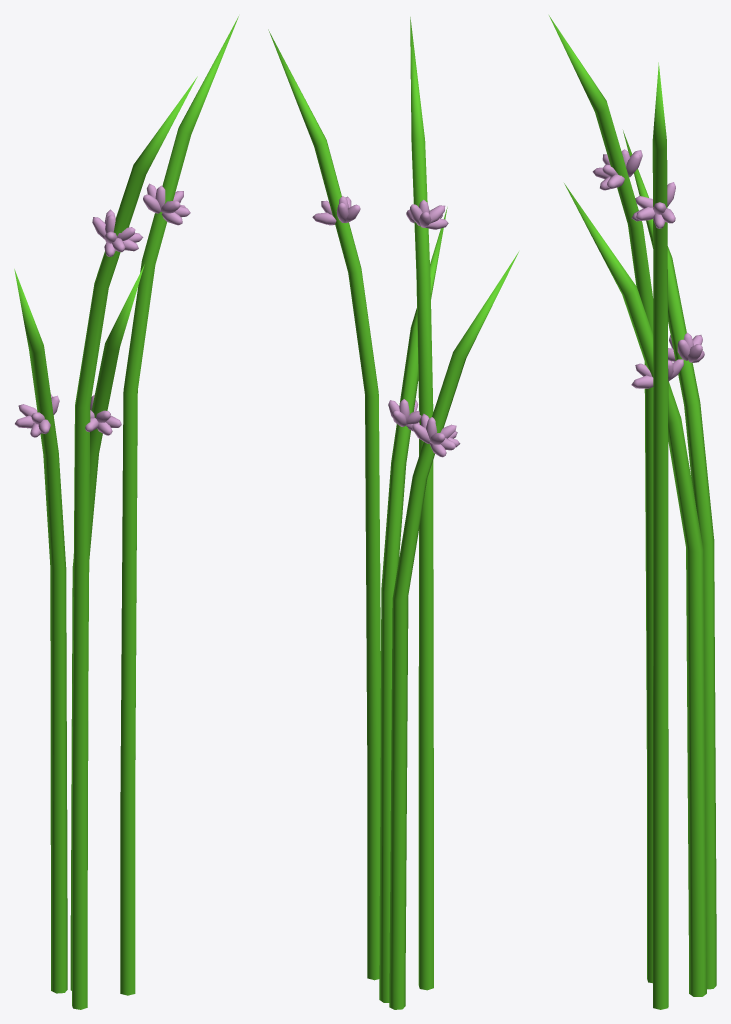
The model's file is swamp_bulrush.fbx.
3 renders of one model, left to right at view 1: azimuth 30°, elevation 25°; view 2: azimuth 150°, elevation 25°; view 3: azimuth 270°, elevation 25°, orthographic. The views are drawn at different scales.
Visible parts, largest first — view 1: Scirpus_flower; view 2: Scirpus_flower; view 3: Scirpus_flower.
Boxes of the visible parts, x1=… form: Scirpus_flower: x1=14, y1=16, x2=238, y2=1009; Scirpus_flower: x1=268, y1=17, x2=518, y2=1009; Scirpus_flower: x1=549, y1=15, x2=716, y2=1009.
Size of the model in its own units: 0.2348 by 0.8819 by 0.1342.
